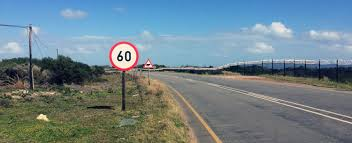Speed_limit_60km: (110, 40, 139, 71)
